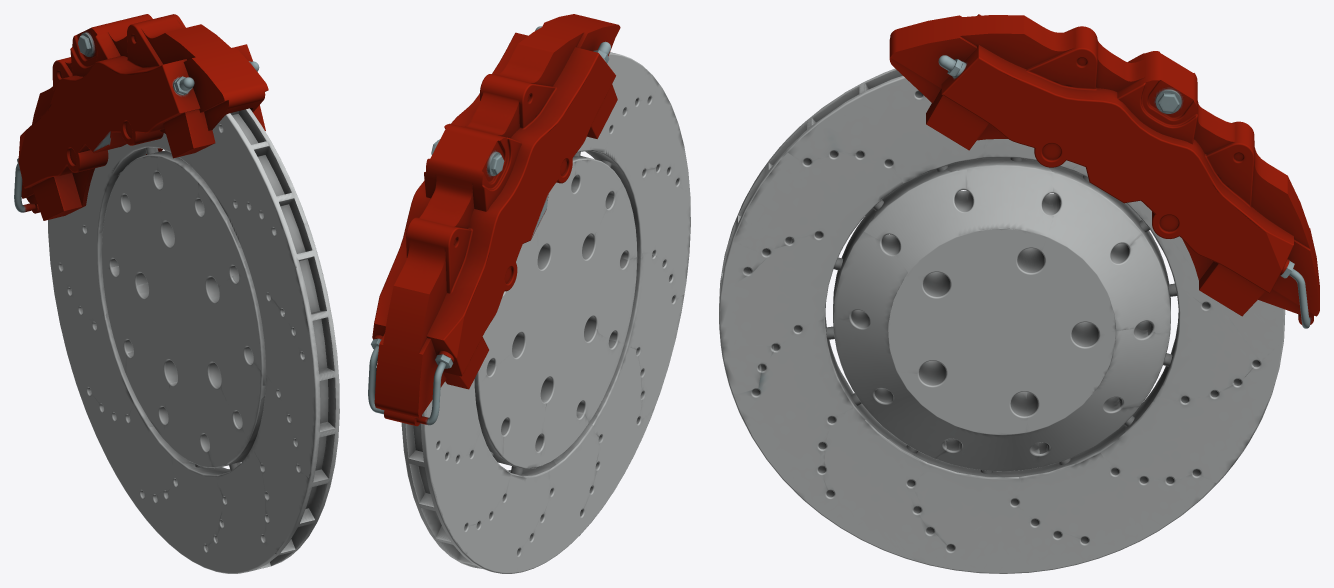
Rendered from Dragonfly_Brake_Left.fbx.
The picture shows the model from 3 angles, left to right: view 1: azimuth 30°, elevation 25°; view 2: azimuth 150°, elevation 25°; view 3: azimuth 270°, elevation 25°; orthographic projection. The views are drawn at different scales.
Visible parts, largest first — view 1: Body1.031, Body1.029; view 2: Body1.031, Body1.029; view 3: Body1.031, Body1.029.
Part boxes in pixels (bbox=[...]): Body1.031: bbox=[48, 108, 339, 573]; Body1.029: bbox=[14, 14, 268, 220]; Body1.031: bbox=[401, 52, 690, 573]; Body1.029: bbox=[368, 14, 620, 426]; Body1.031: bbox=[719, 68, 1285, 573]; Body1.029: bbox=[889, 14, 1319, 328].
Bounding box in the file's own units: 3.3 × 19.08 × 19.11.
